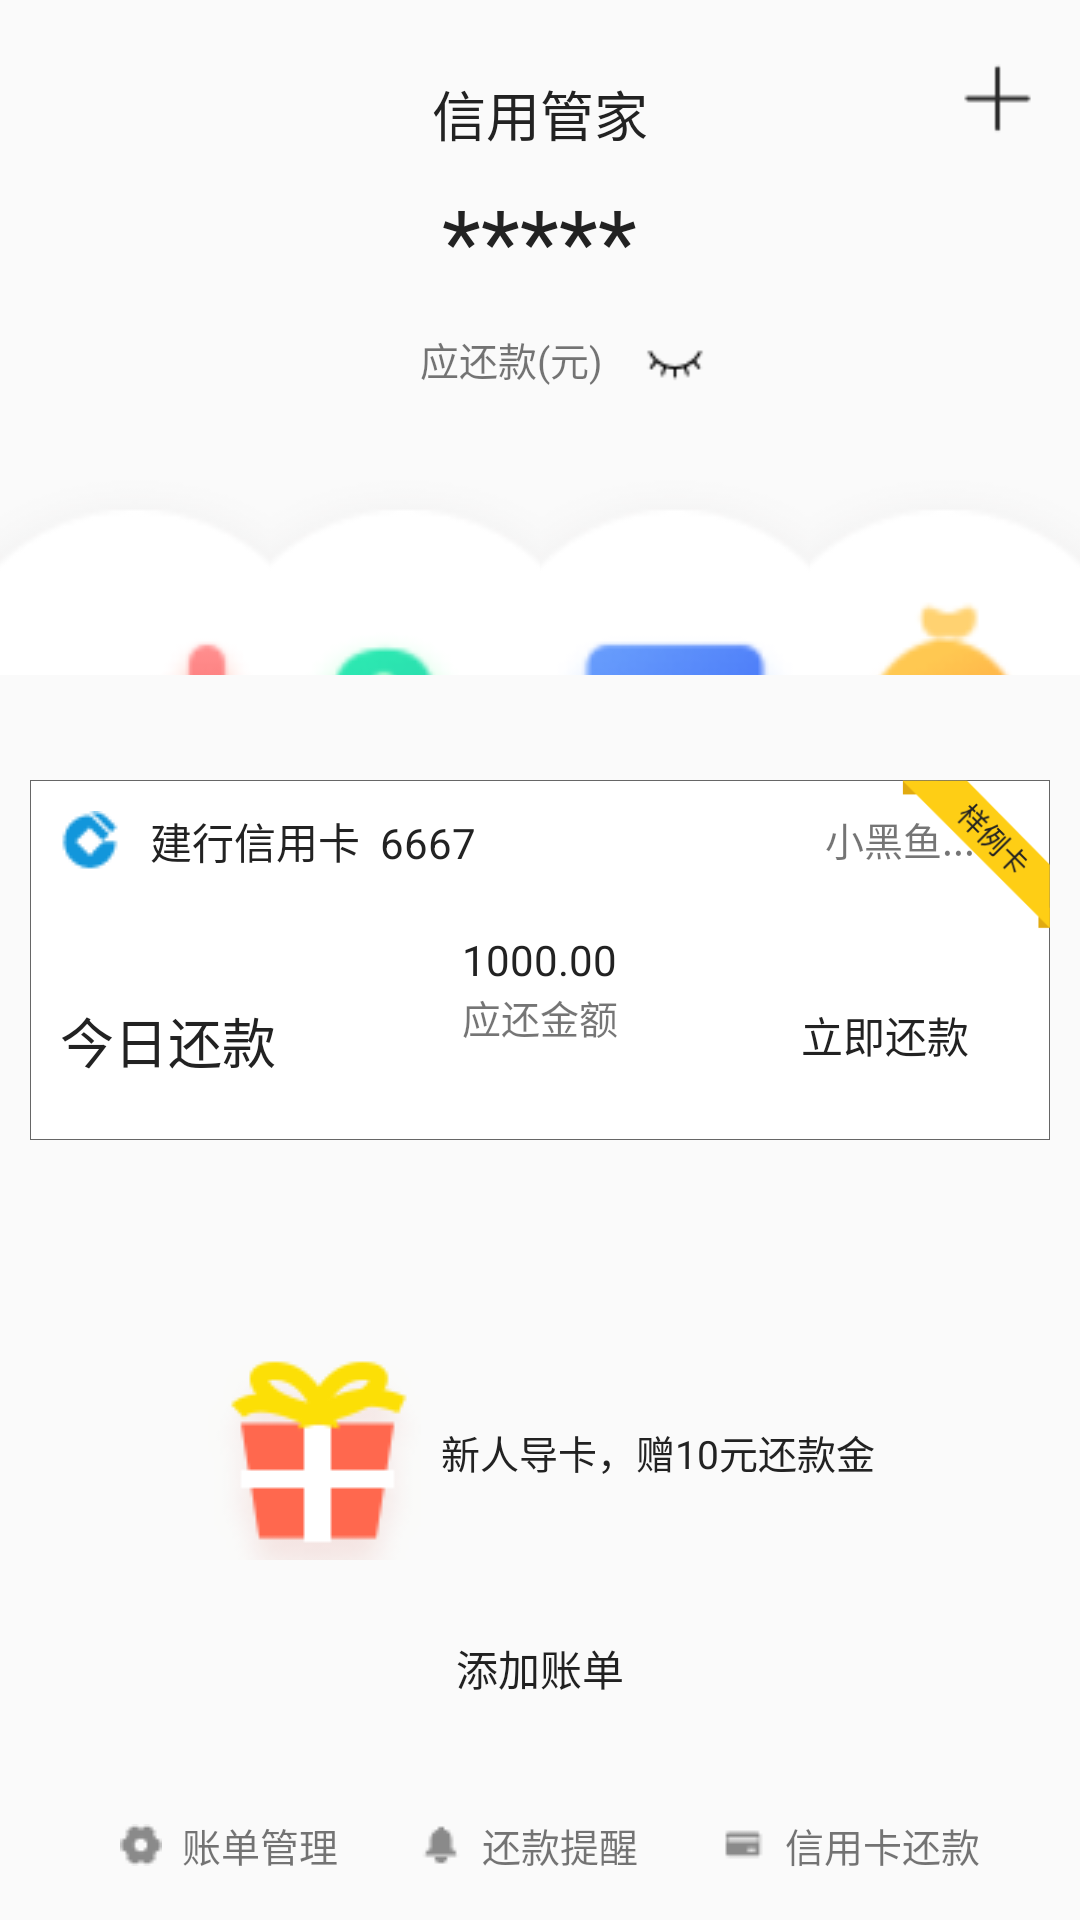

Where to tap for icons on this 1080×1920 app screen, as (x=x, y=y):
close eyes: (x=675, y=365)
keeper add: (x=997, y=98)
